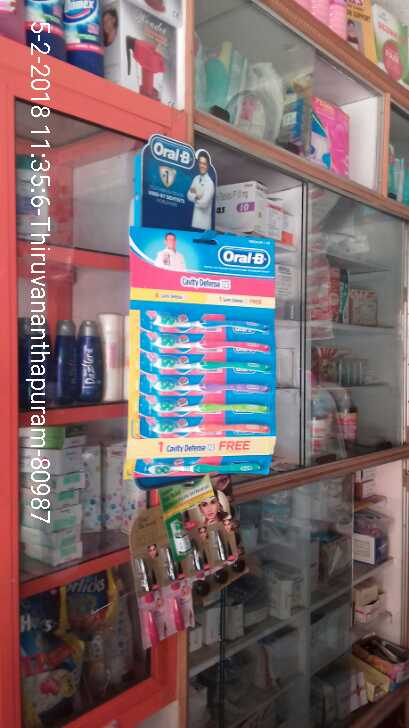oralb: (140, 303, 272, 336), (142, 330, 275, 356), (146, 350, 274, 377), (145, 372, 273, 399), (141, 393, 275, 418), (136, 456, 267, 478), (145, 415, 276, 436)
